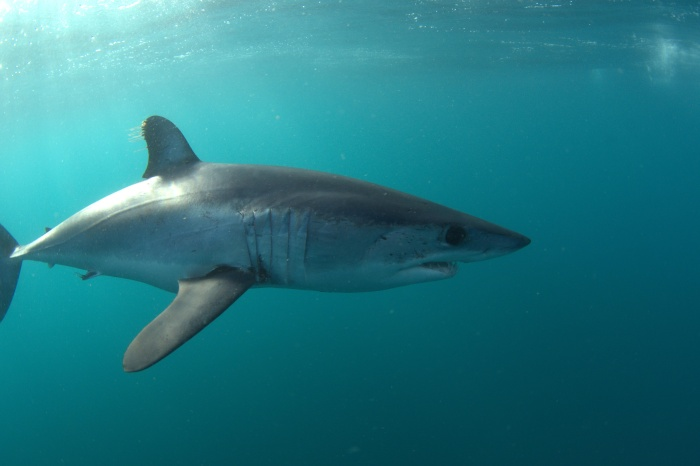Mako: (1, 111, 538, 382)
